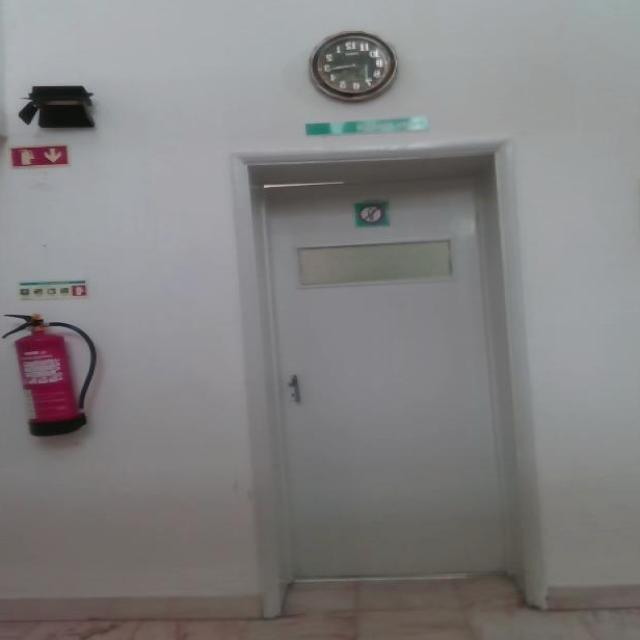door: (261, 171, 514, 582)
